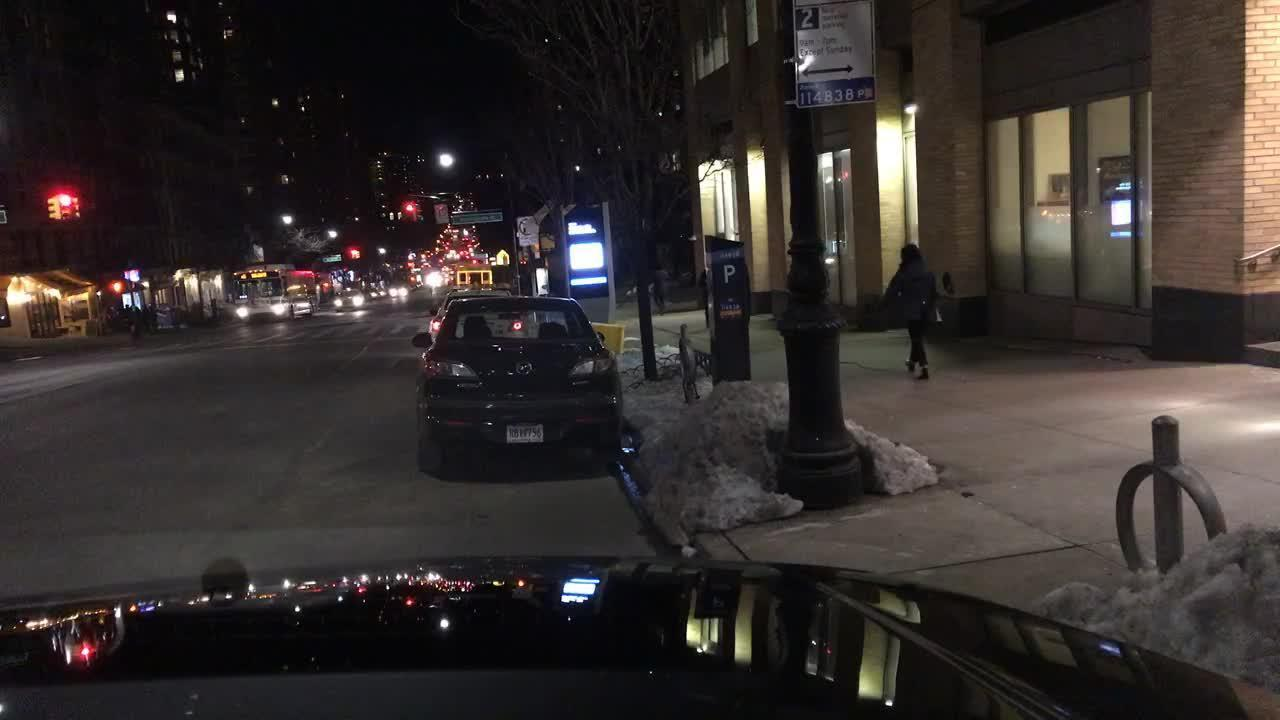Mazda: (510, 359, 538, 381)
